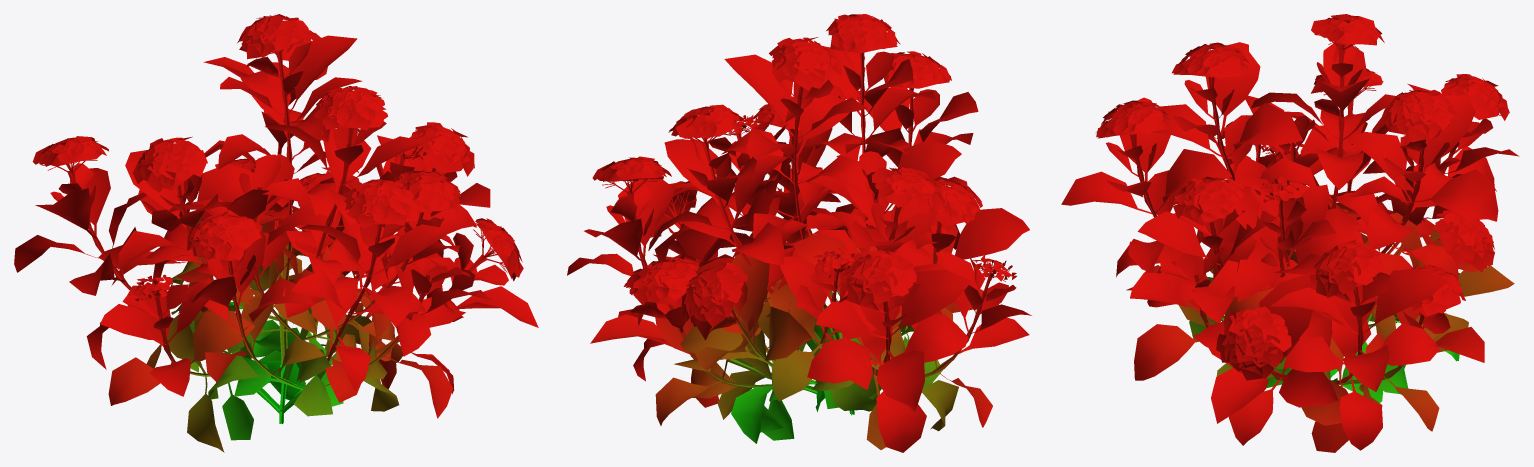
The model's file is Var2_LOD3.fbx.
3 views of the same model, side by side, from view 1: azimuth 30°, elevation 25°; view 2: azimuth 150°, elevation 25°; view 3: azimuth 270°, elevation 25° (orthographic).
Parts seen in each view (by area): view 1: _bznh_Var2_LOD3; view 2: _bznh_Var2_LOD3; view 3: _bznh_Var2_LOD3.
Boxes of the visible parts, x1=… form: _bznh_Var2_LOD3: x1=14, y1=14, x2=538, y2=452; _bznh_Var2_LOD3: x1=567, y1=14, x2=1031, y2=452; _bznh_Var2_LOD3: x1=1061, y1=14, x2=1519, y2=452.
Size of the model in its own units: 153 by 136 by 146.
